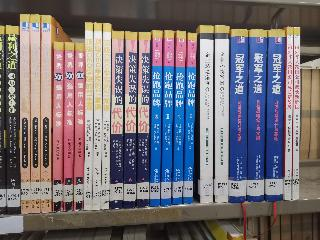book-spine: (263, 30, 288, 202), (247, 28, 266, 201), (121, 30, 139, 211), (4, 26, 21, 215), (229, 29, 247, 202), (27, 13, 42, 213), (198, 22, 214, 204), (109, 30, 125, 209), (214, 27, 229, 202), (160, 30, 174, 206), (172, 30, 186, 204), (150, 29, 163, 207), (138, 31, 151, 208), (91, 21, 103, 211), (184, 33, 197, 205), (51, 41, 64, 212), (19, 13, 30, 214), (72, 41, 85, 211), (41, 15, 52, 214), (62, 41, 75, 209), (83, 22, 93, 212), (101, 24, 111, 210), (284, 26, 294, 200), (292, 28, 301, 201)
